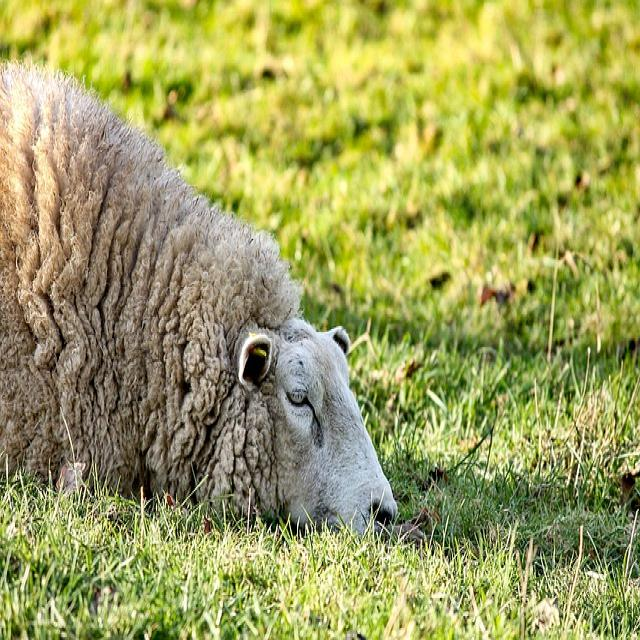goat: (0, 67, 396, 531)
